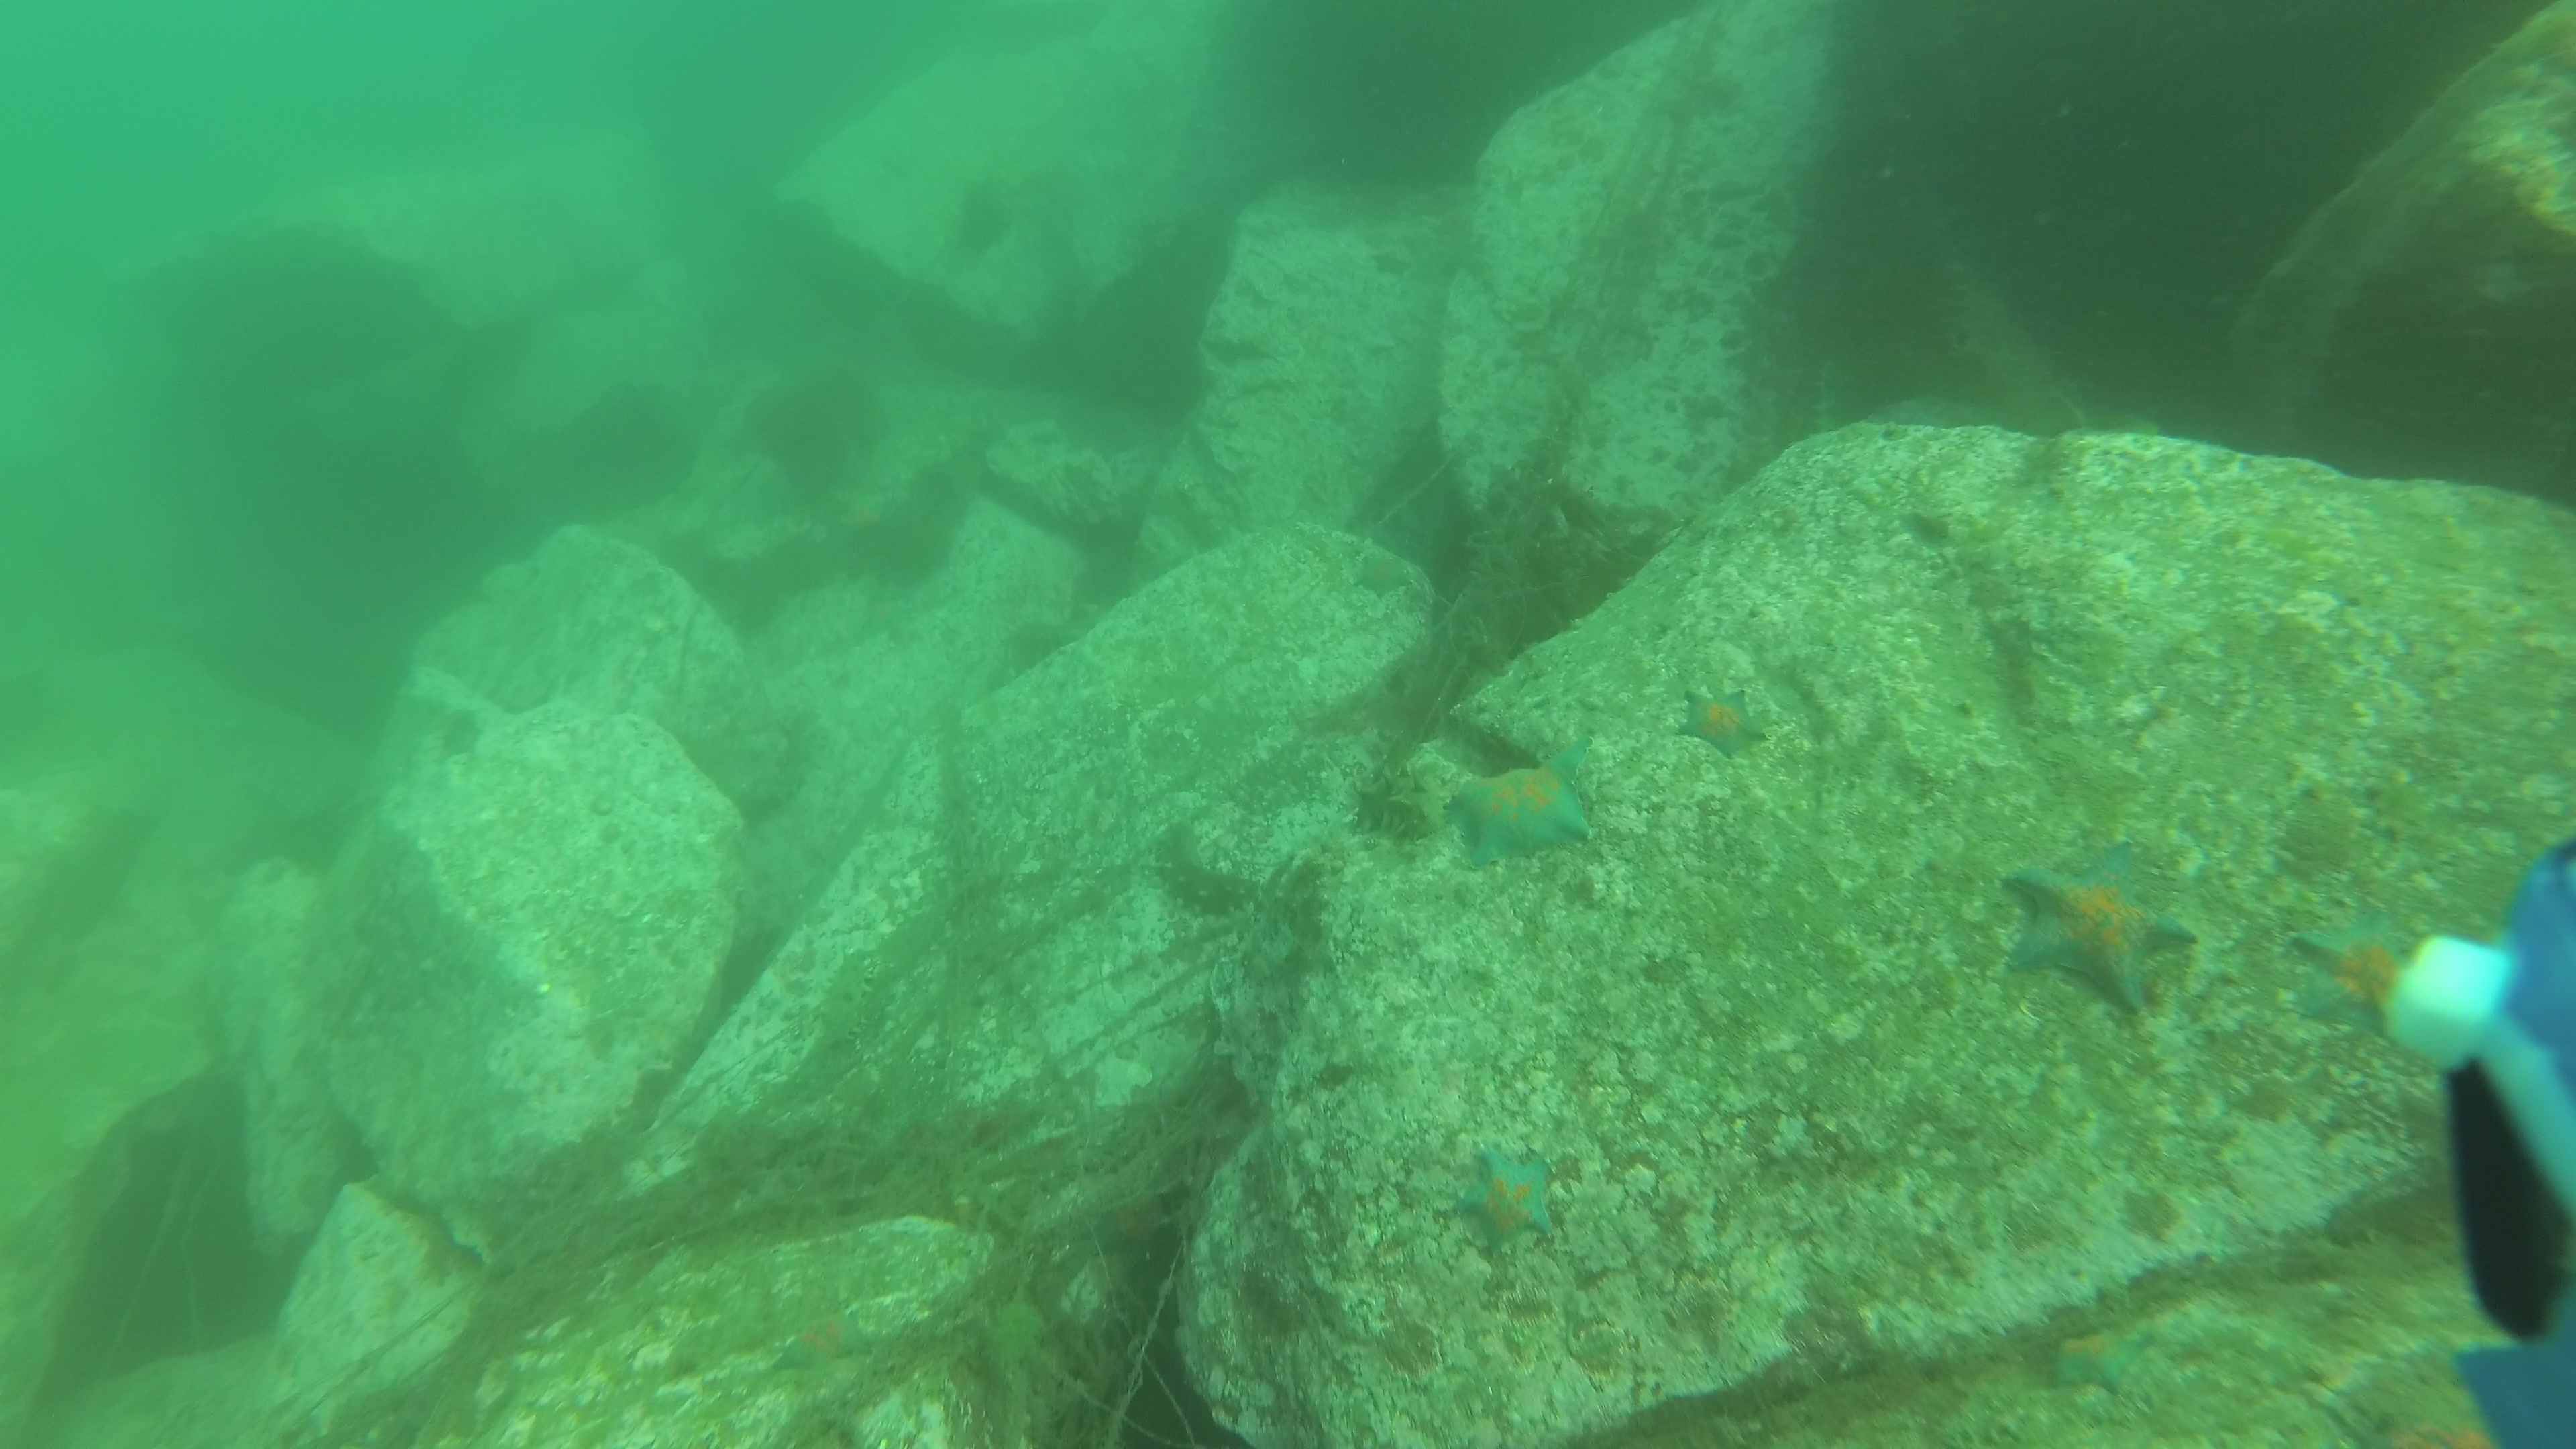holothurian: (1120, 812, 1281, 924), (1350, 754, 1460, 846)
starfish: (2003, 832, 2203, 1019), (1442, 731, 1601, 870), (2282, 902, 2413, 1044), (1449, 1143, 1560, 1258), (2051, 1323, 2162, 1399), (1674, 683, 1773, 763), (771, 1306, 879, 1378), (830, 487, 897, 543), (1350, 550, 1417, 600), (1368, 244, 1414, 280)
